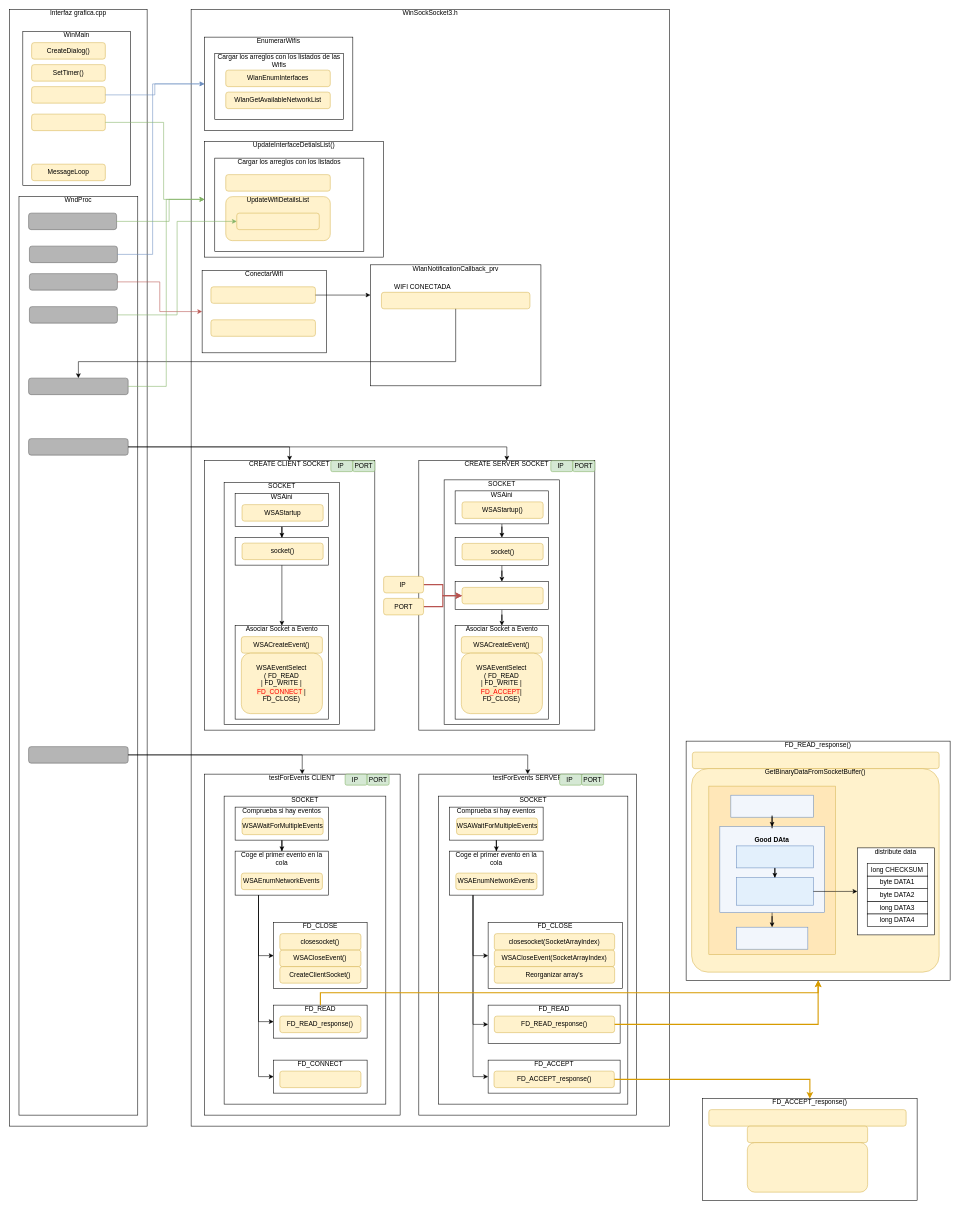
Some shapes in this 960 by 1210 pixel diagram are drawn without their labels. Here are the shapes that lost their labels. From the top down, the centre of each, then its label:
the point at 68,94: EnumerarWifis()
the point at 68,122: ShowWindow()
the point at 277,182: GetAdapterDetails
the point at 72,221: WM_SHOWINDOW
the point at 277,221: UpdateIPComboBox
the point at 73,254: IDC_BTN_UPDATE_WIFI
the point at 73,281: IDC_BTN_CONNECT_WIFI
the point at 262,294: WlanRegisterNotification
the point at 455,300: wlan_notification_acm_connection_complete
the point at 73,314: IDC_BTN_UPDATE_IP
the point at 262,327: WlanConnect
the point at 78,386: WM_APP_WIFI_CONNECTED
the point at 78,446: IDC_BTN_CONNECT_SOCKET
the point at 502,595: bind()
the point at 78,754: WM_TIMER
the point at 815,760: recv(client, Buffer...
the point at 771,806: Garbage
the point at 774,856: CONTROL MARK
the point at 774,891: DATA
the point at 772,938: Garvage
the point at 320,1079: state = STATE::CONNECTED;
the point at 807,1117: SocketArray[ ClientIndex ] = accept(SocketArray[ ServerIndex ],
the point at 807,1134: WSACreateEvent
the point at 807,1167: WSAEventSelect FD_CONNECT | FD_CLOSE | FD_READ | FD_WRITE
